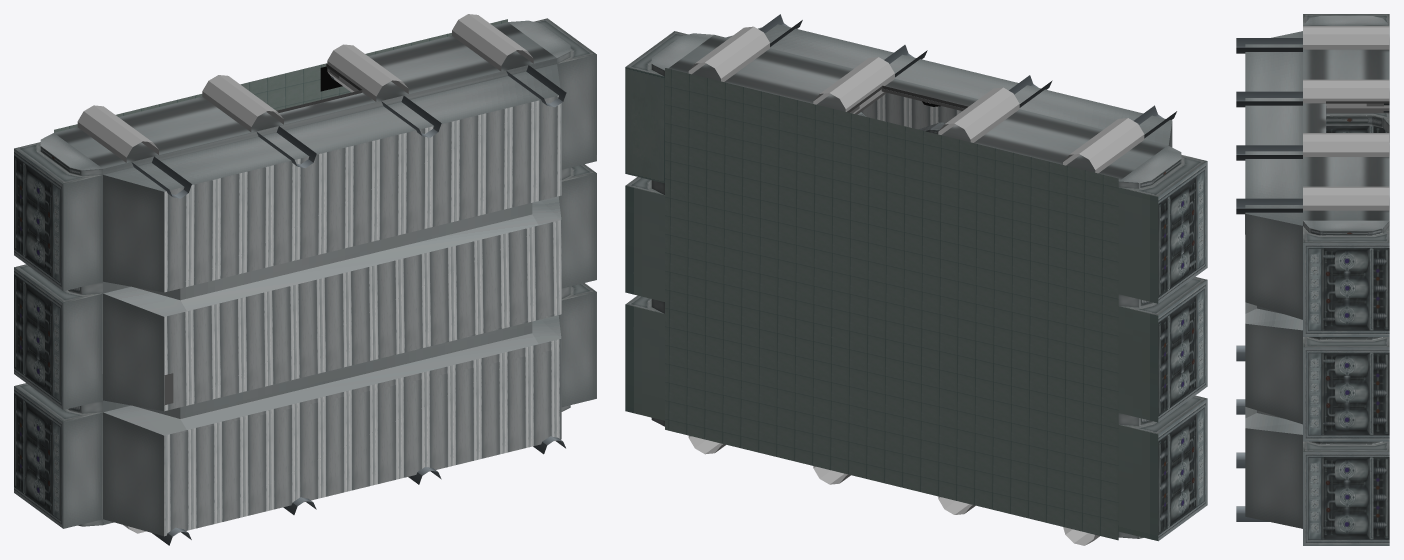
Rendered from cog_building_floor1.fbx.
The picture shows the model from 3 angles, left to right: view 1: azimuth 30°, elevation 25°; view 2: azimuth 150°, elevation 25°; view 3: azimuth 270°, elevation 25°; orthographic projection. The views are drawn at different scales.
Visible parts, largest first — view 1: ceiling, north_panel_wall, south_panel_wall, right_wall, support2, support1, main_floor, col_tube_7, col_tube_6, col_tube_8, col_tube_5; view 2: main_floor, north_panel_wall, right_wall, ceiling, south_panel_wall, col_tube_7, col_tube_5, col_tube_6, col_tube_8; view 3: south_panel_wall, ceiling, right_wall, col_tube_6, north_panel_wall, col_tube_8, col_tube_5, col_tube_7, support1, support2, o101_2, o101_5 (+3 smaller).
Boxes of the visible parts, <box> form: ceiling: <box>103,58,561,536</box>; north_panel_wall: <box>14,133,102,528</box>; south_panel_wall: <box>508,18,596,411</box>; right_wall: <box>54,22,556,168</box>; support2: <box>103,315,561,435</box>; support1: <box>103,196,561,316</box>; main_floor: <box>54,19,507,132</box>; col_tube_7: <box>327,44,408,101</box>; col_tube_6: <box>202,75,283,131</box>; col_tube_8: <box>452,14,533,71</box>; col_tube_5: <box>77,105,158,162</box>; main_floor: <box>625,67,1158,540</box>; north_panel_wall: <box>1118,145,1207,540</box>; right_wall: <box>668,35,1167,180</box>; ceiling: <box>726,24,1172,147</box>; south_panel_wall: <box>625,31,713,426</box>; col_tube_7: <box>813,57,894,114</box>; col_tube_5: <box>1063,118,1144,173</box>; col_tube_6: <box>938,87,1019,142</box>; col_tube_8: <box>688,26,769,81</box>; south_panel_wall: <box>1303,220,1389,545</box>; ceiling: <box>1245,31,1302,528</box>; right_wall: <box>1303,25,1389,220</box>; col_tube_6: <box>1303,79,1389,113</box>; north_panel_wall: <box>1303,14,1389,139</box>; col_tube_8: <box>1303,186,1389,210</box>; col_tube_5: <box>1303,26,1389,49</box>; col_tube_7: <box>1303,133,1389,156</box>; support1: <box>1245,302,1302,330</box>; support2: <box>1245,407,1302,434</box>; o101_2: <box>1236,91,1389,112</box>; o101_5: <box>1236,198,1302,214</box>.
Size of what is drawn, in the model's own units: 2865 by 2012 by 810.
38 materials, 36 textured.
